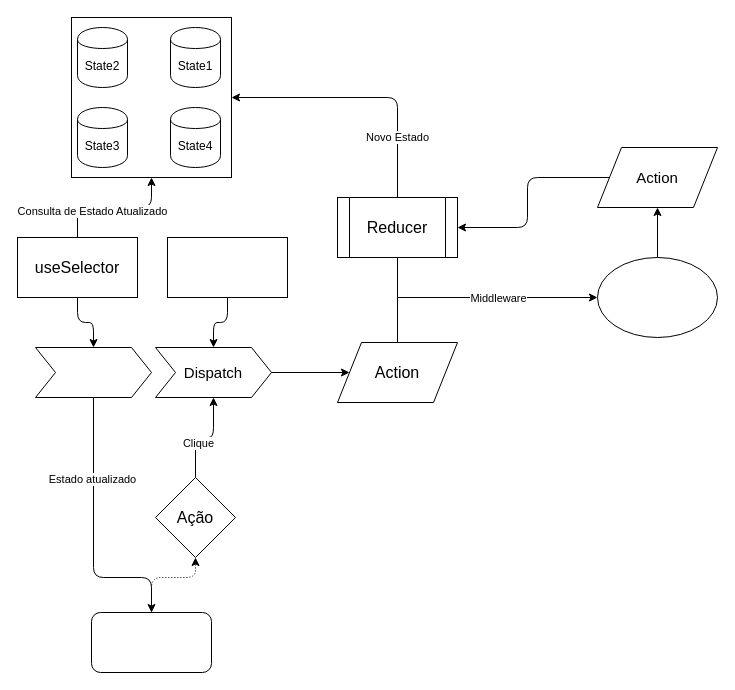
Image size: 735x690. Some labels were removed from this diagram. The box of each missing label's shape, as (x1, y1, x2, y2) in pixels:
Componente: (90, 612, 212, 672)
Sagas: (596, 256, 718, 338)
Selector: (34, 346, 152, 398)
Store: (70, 16, 232, 178)
useDispatch: (166, 236, 288, 298)
